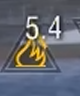1fire: (1, 42, 65, 75)
